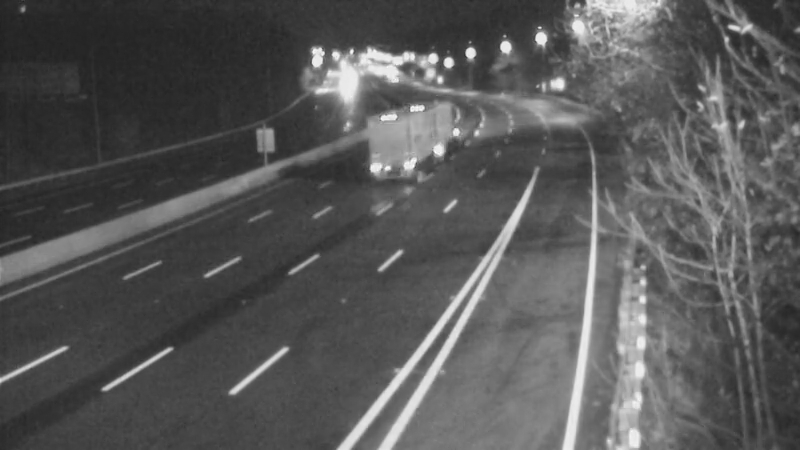vehicle: (392, 95, 442, 145)
